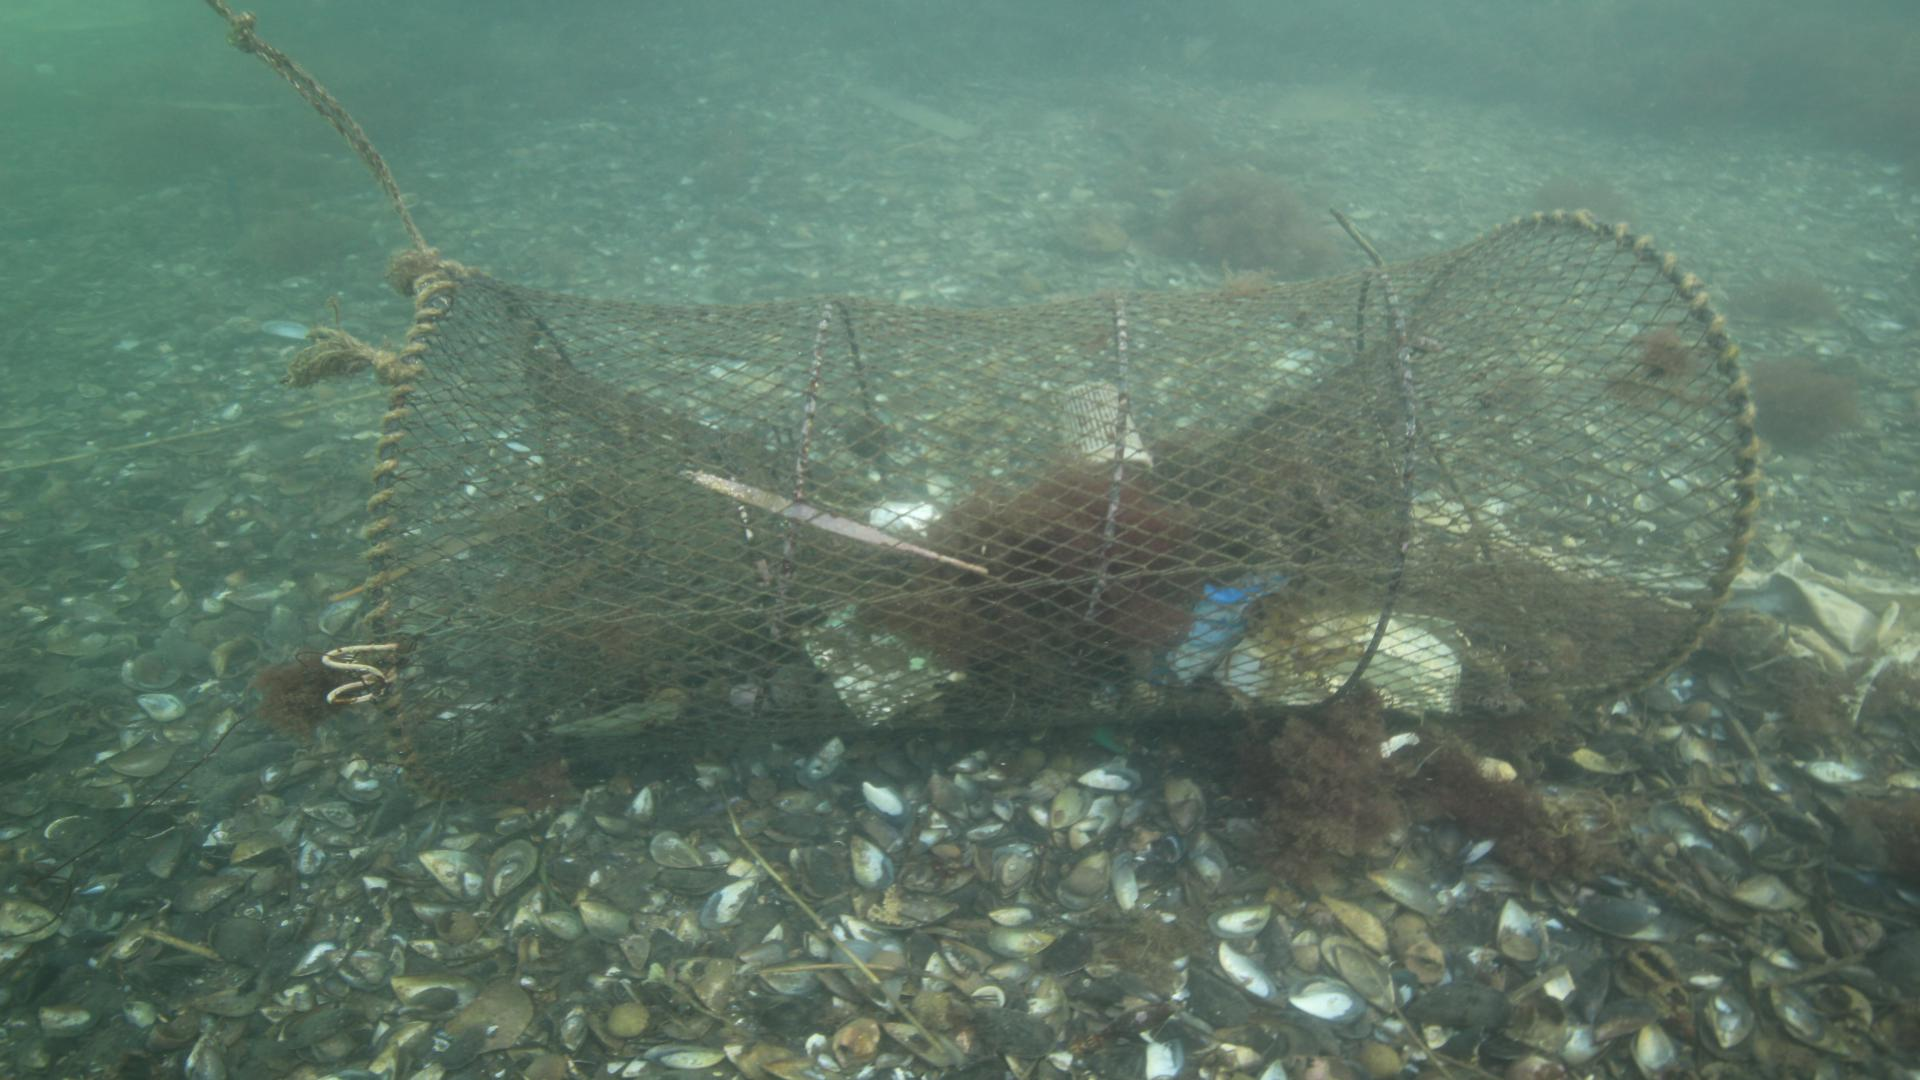rope: (203, 1, 426, 265)
spring fish trap: (359, 204, 1759, 804)
